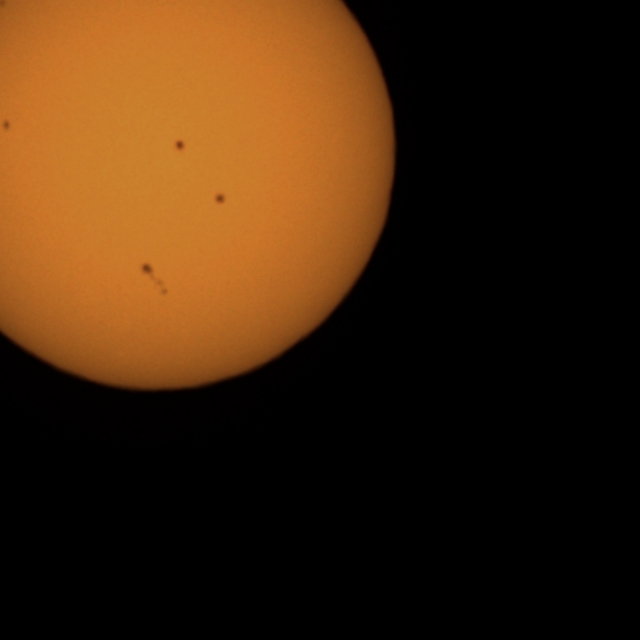sunspot: (140, 261, 169, 297), (213, 192, 227, 206), (174, 138, 186, 153), (1, 118, 12, 134)
